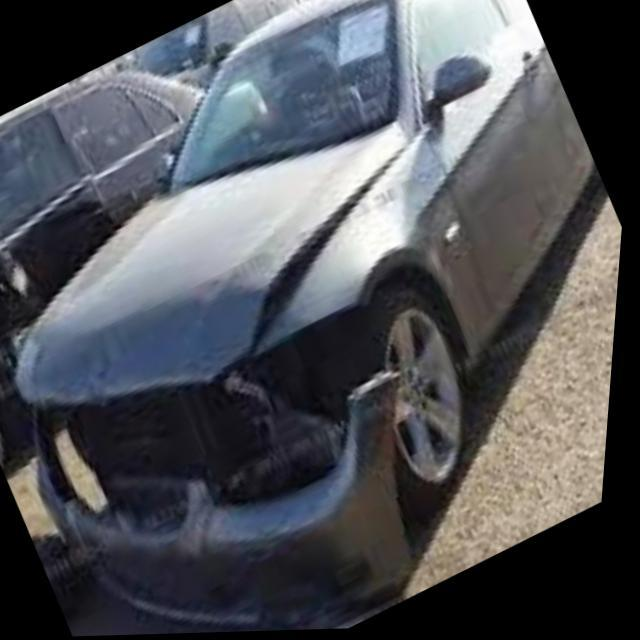dislocated part: (19, 155, 422, 623)
